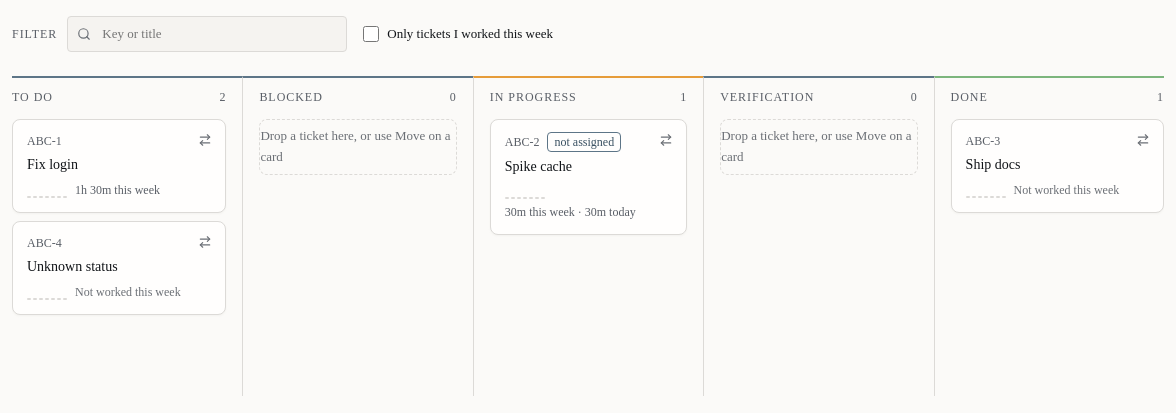
Scenario: TaskBoard Move menu › Esc closes the menu and returns focus to the Move button
The image size is (1176, 413).
Click the button named "Move ABC-1" at {"x": 205, "y": 140}, box [191,126,219,154]
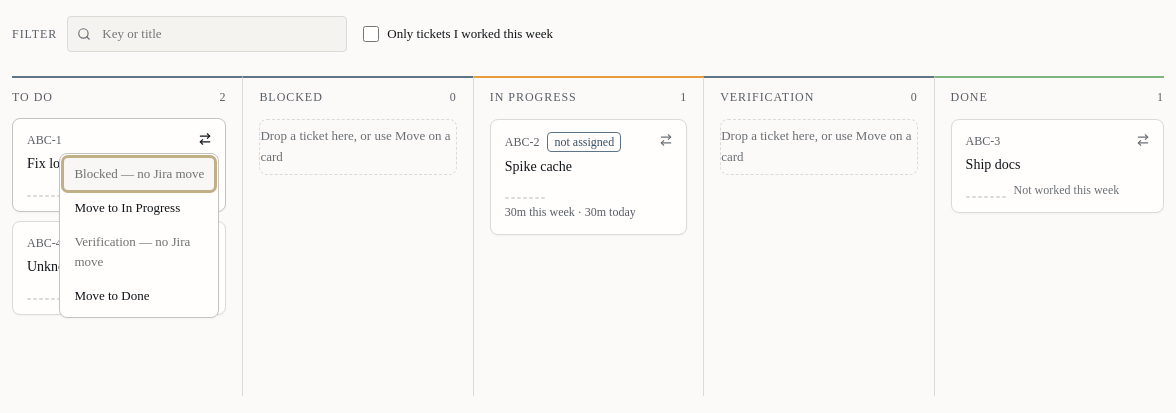
Press Escape in the menu item "Move to Done", box [64,280,214,312]
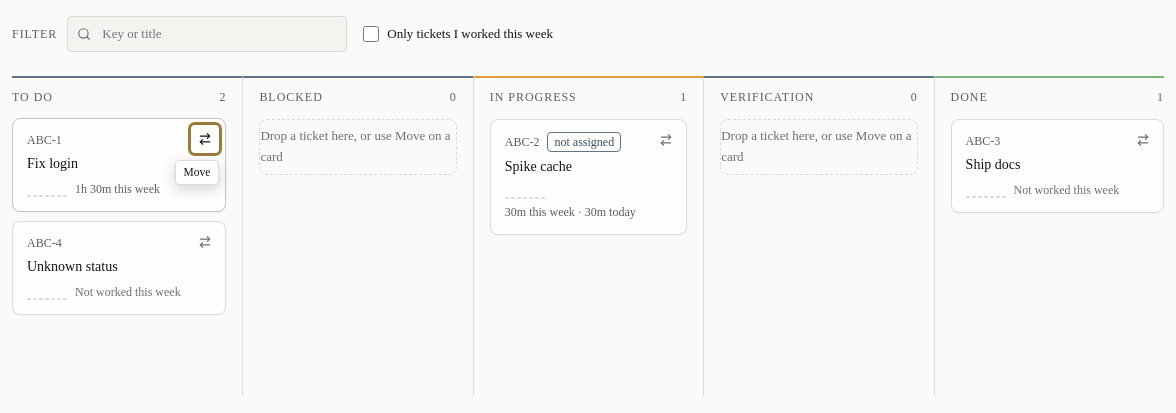
expect the menu is gone: met
